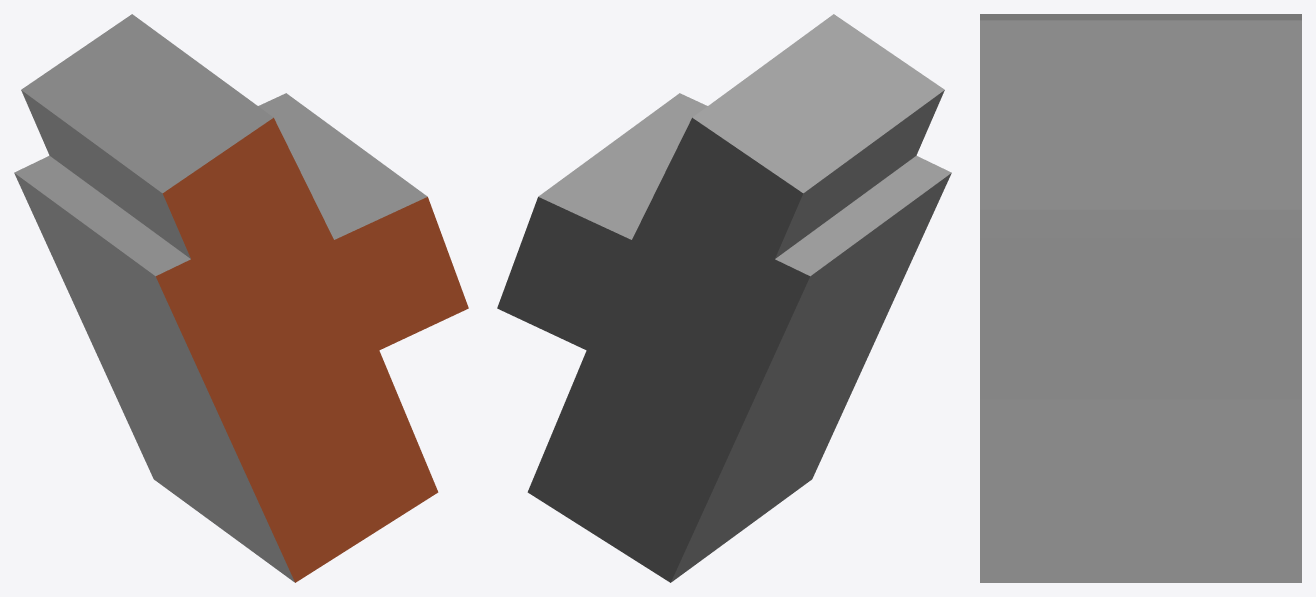
Rendered from construction_1548_assumed_A_Casa_h6m.obj.
3 renders of one model, left to right at view 1: azimuth 30°, elevation 25°; view 2: azimuth 150°, elevation 25°; view 3: azimuth 270°, elevation 25°, orthographic. The views are drawn at different scales.
Visible parts, largest first — view 1: construction_1548_assumed_A_Casa; view 2: construction_1548_assumed_A_Casa; view 3: construction_1548_assumed_A_Casa.
Part boxes in pixels (x1,y1,x2,y2): construction_1548_assumed_A_Casa: (14,14,468,582); construction_1548_assumed_A_Casa: (497,14,951,582); construction_1548_assumed_A_Casa: (980,14,1301,582).
Bounding box in the file's own units: 7.66 × 11 × 6.
